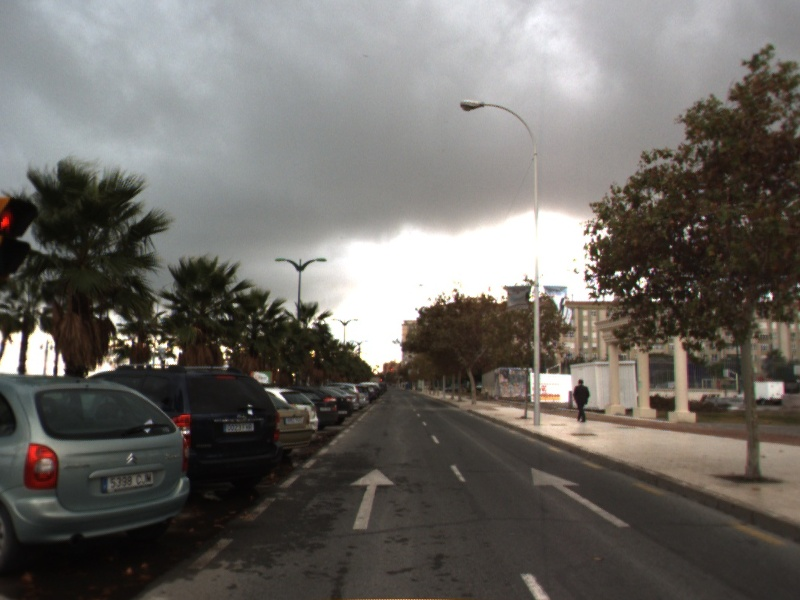STRAIGHT: (530, 466, 631, 529), (348, 467, 397, 531)
